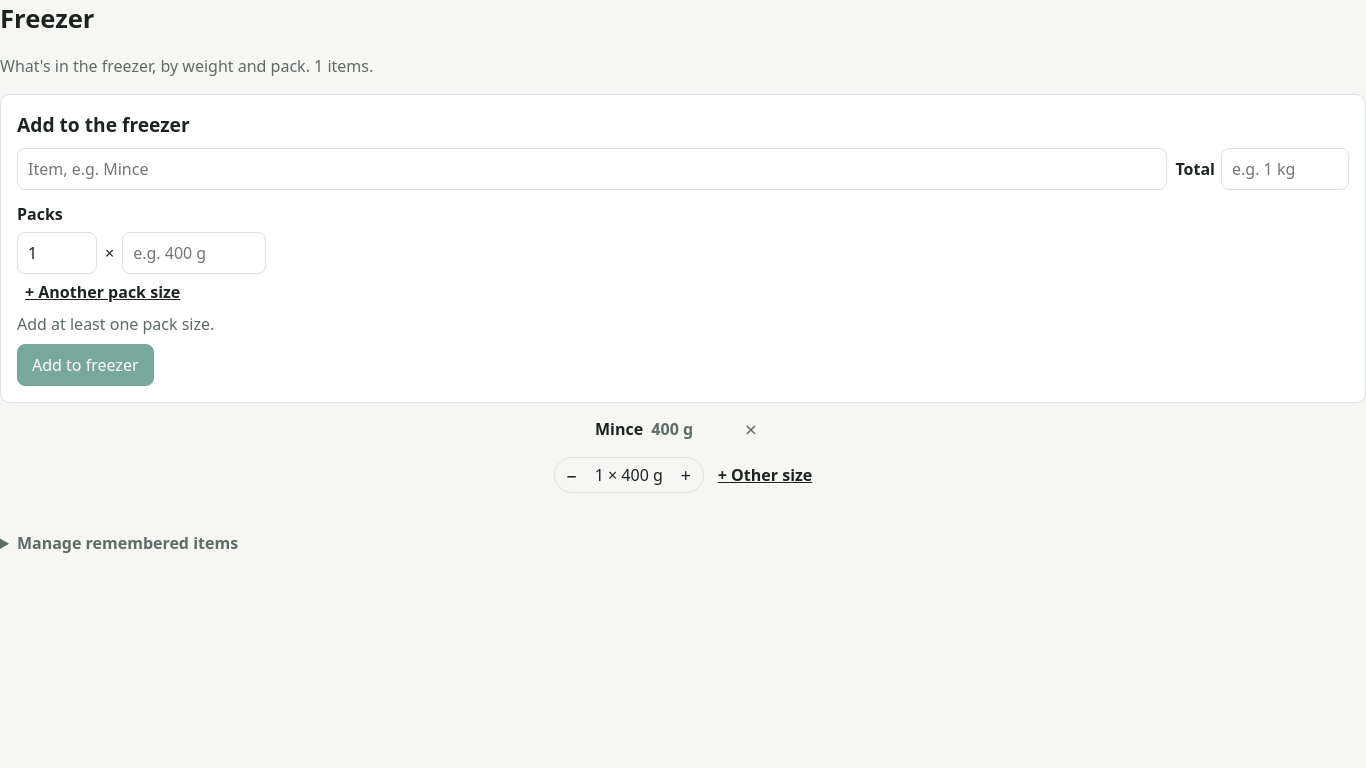
Test case: FreezerPage › asks before using the last pack, which takes the item off the list
Expected: the text "Mince" is shown, [595,418,643,440]
Click the button named "Use one 400 g pack of Mince": (572, 475) [555,458,589,492]
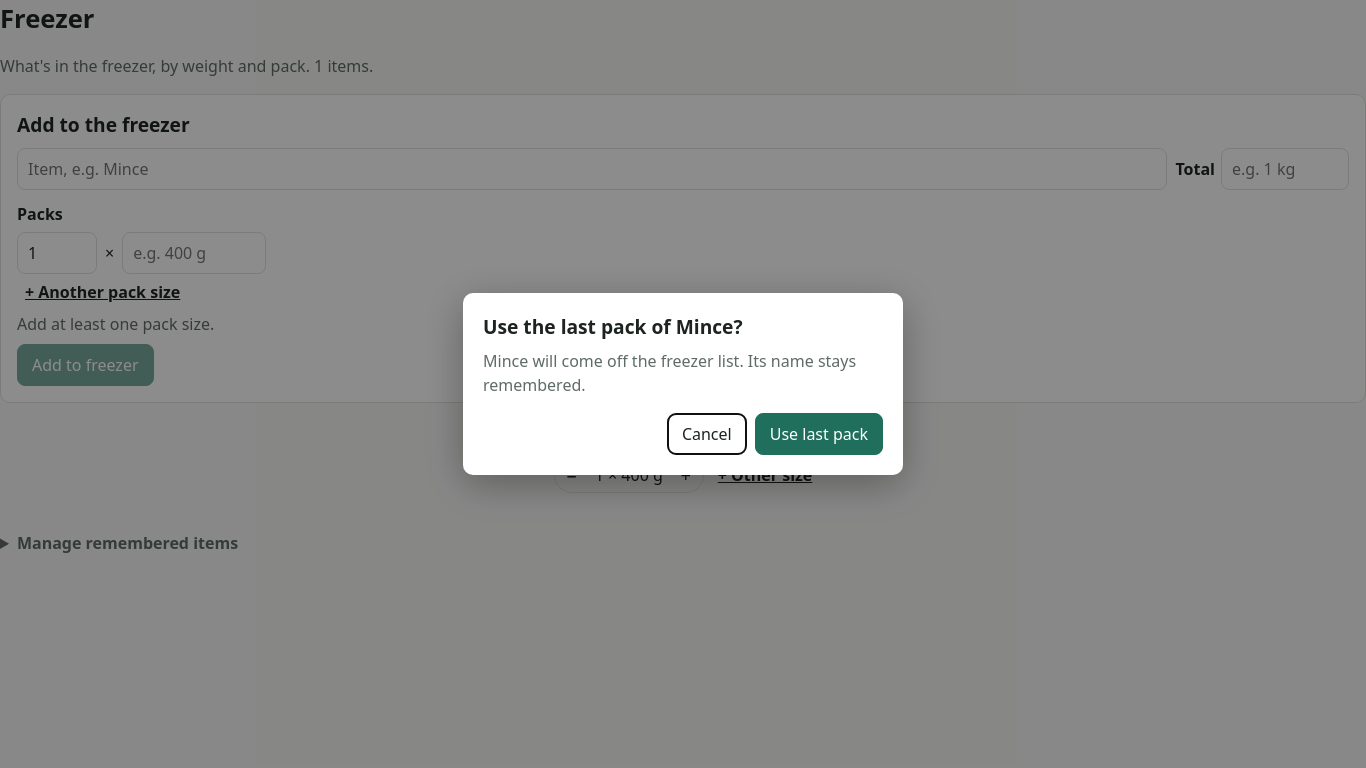
Expected: the dialog shows "Use the last pack of Mince?", [483,313,743,340]
Click the button "Use last pack": (819, 434) [755,413,883,455]
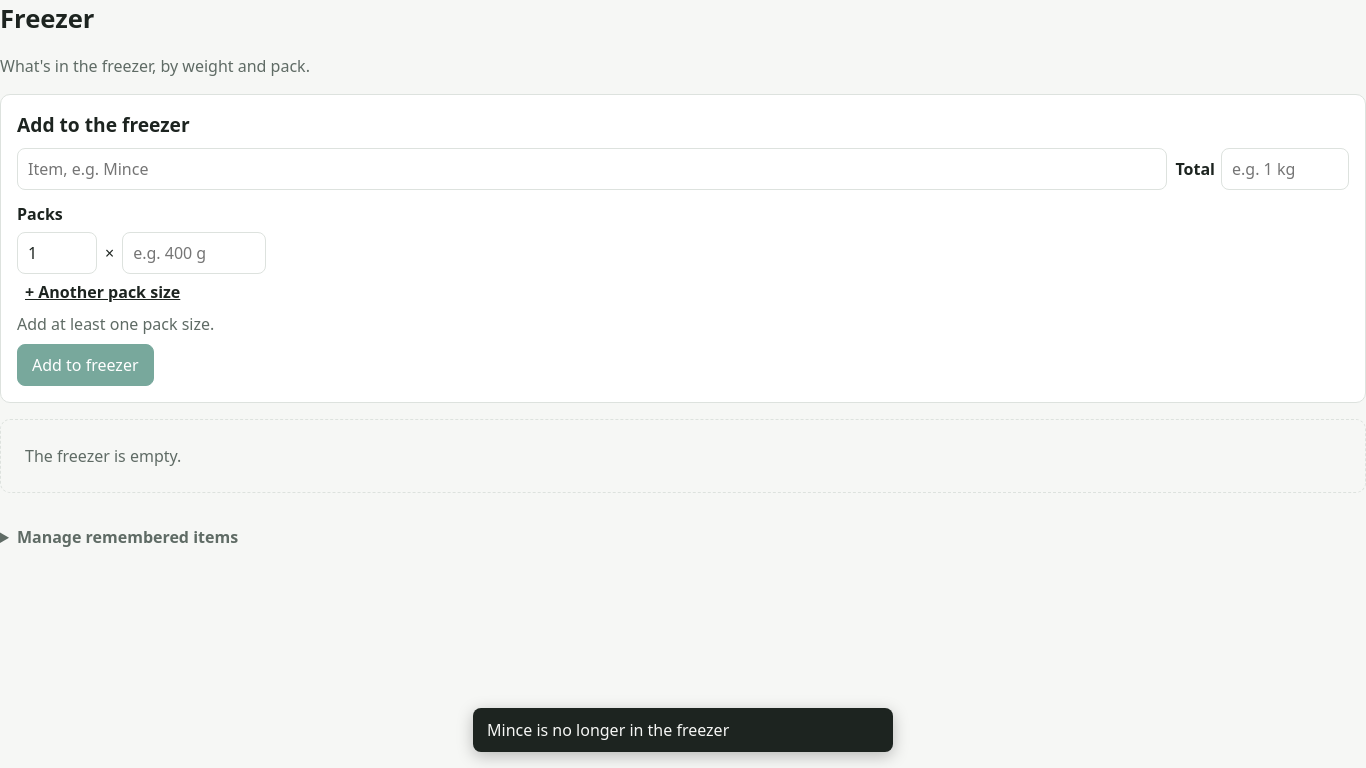
Expected: the text "The freezer is empty." is shown, [0,419,1365,493]
